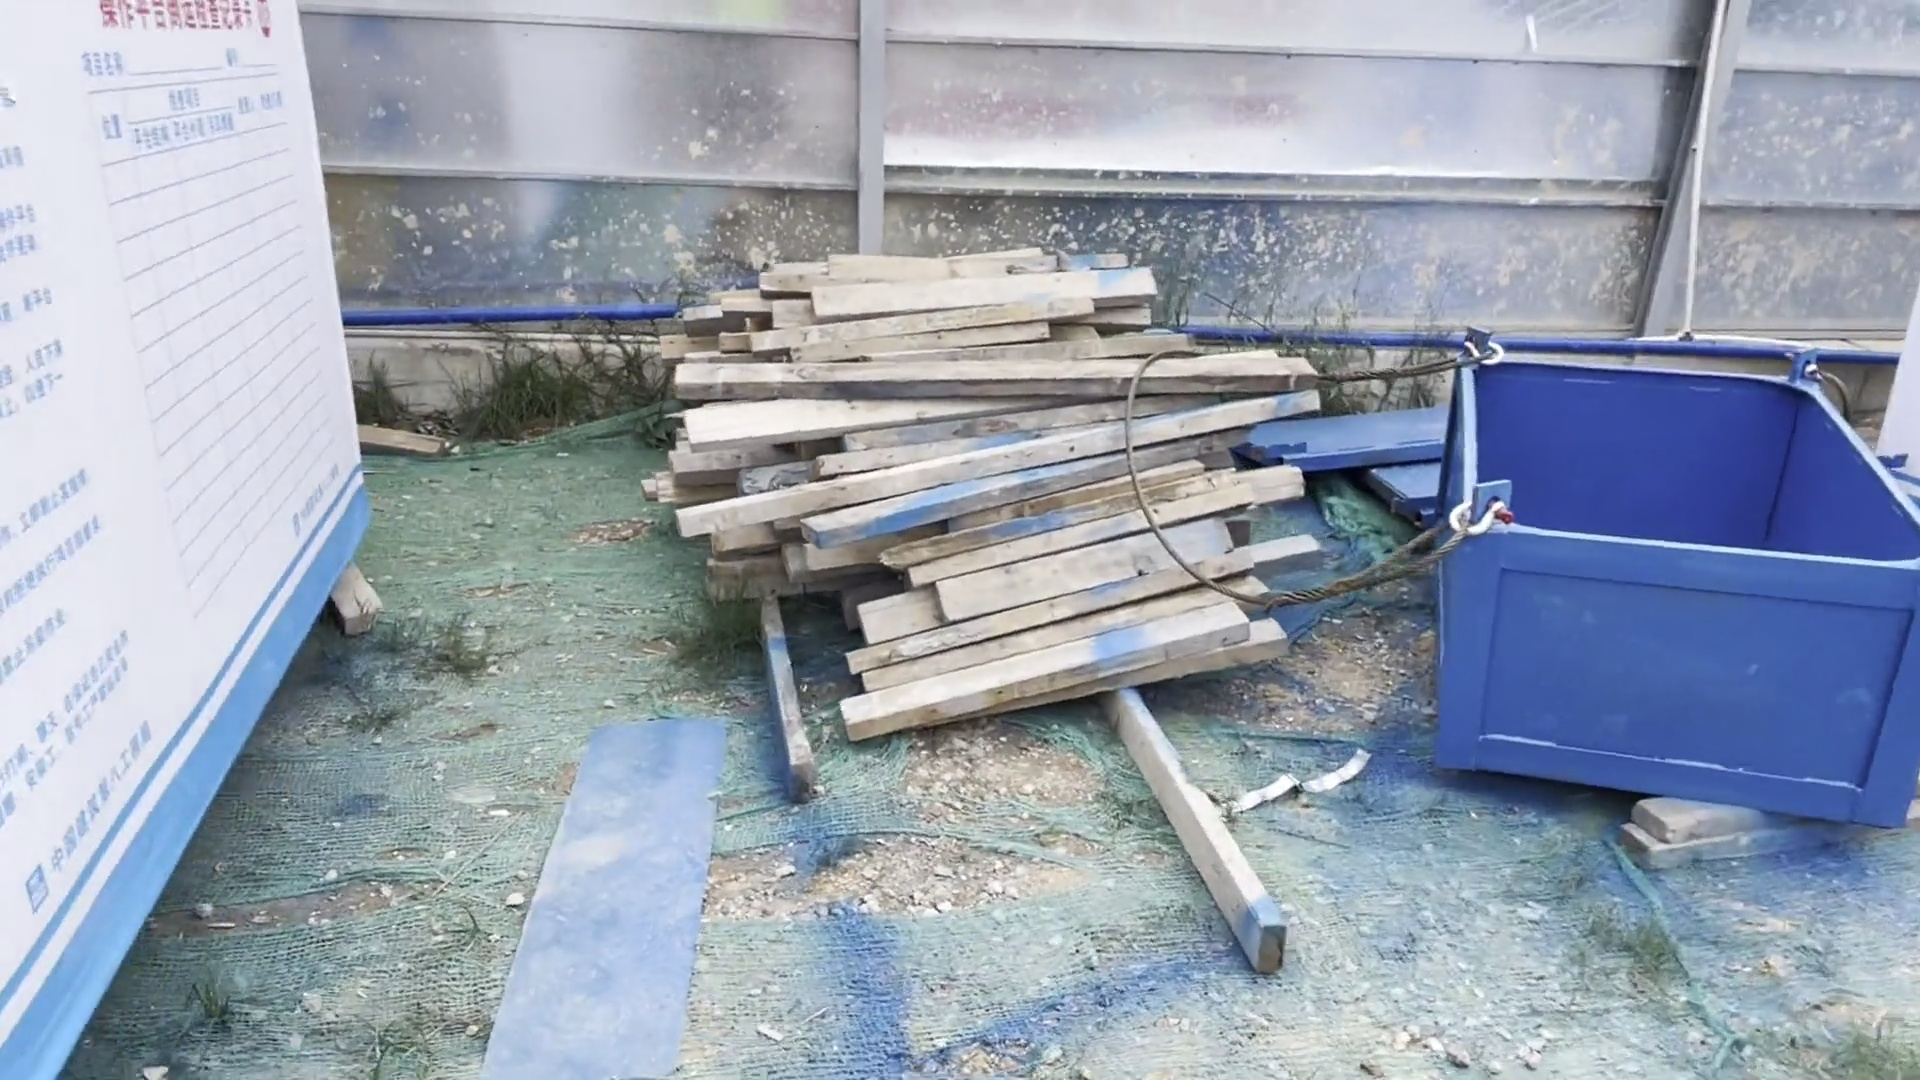hopper: (1396, 318, 1920, 858)
wood: (673, 200, 1349, 976)
